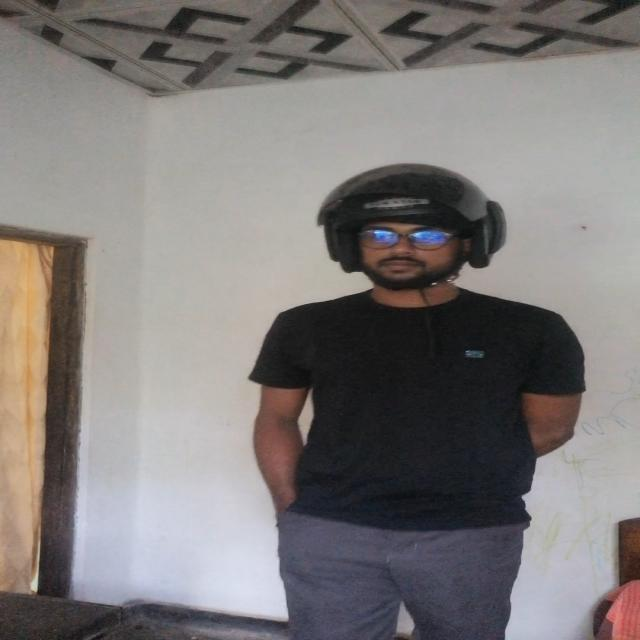Helmet_Wearer: (305, 160, 505, 308)
Person: (255, 166, 592, 640)
